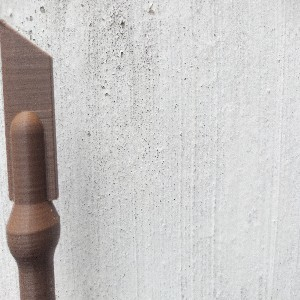cutter: (1, 19, 62, 300)
